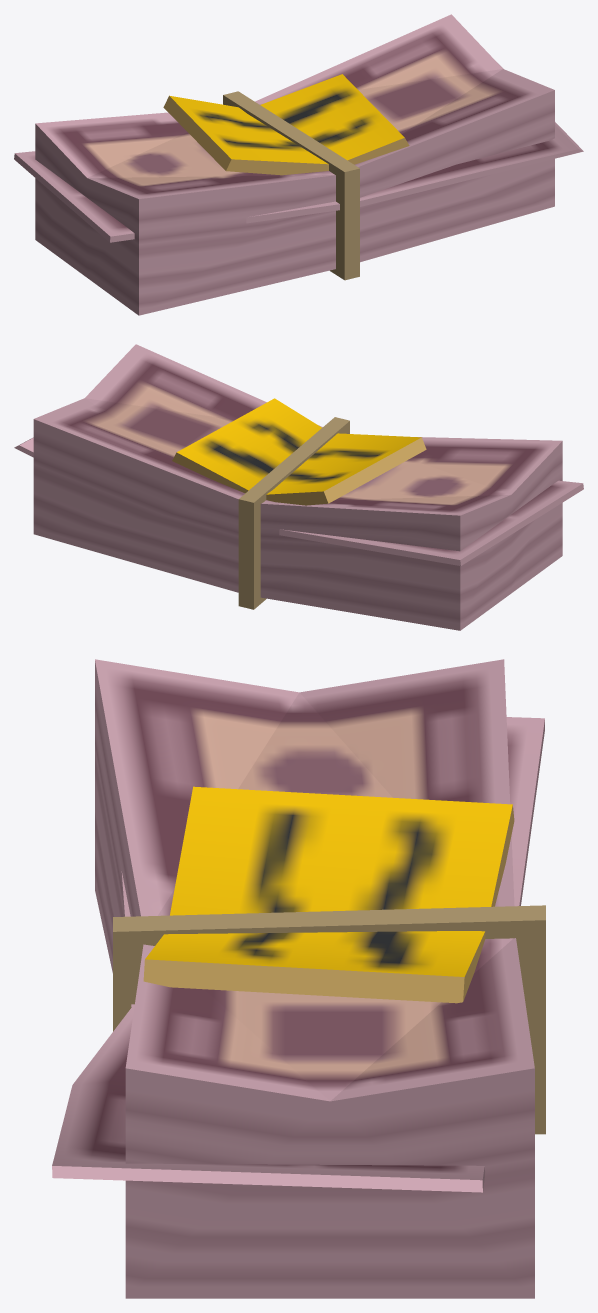
File: SM_Prop_Money_Strapped_02.fbx
3 renders of one model, top to bottom at view 1: azimuth 30°, elevation 25°; view 2: azimuth 150°, elevation 25°; view 3: azimuth 270°, elevation 25°, orthographic. The views are drawn at different scales.
Parts seen in each view (by area): view 1: SM_Prop_Money_Strapped_02; view 2: SM_Prop_Money_Strapped_02; view 3: SM_Prop_Money_Strapped_02.
Part boxes in pixels (x1,y1,x2,y2): SM_Prop_Money_Strapped_02: [14, 14, 583, 315]; SM_Prop_Money_Strapped_02: [14, 344, 583, 630]; SM_Prop_Money_Strapped_02: [52, 659, 545, 1298].
Bounding box in the file's own units: 31.11 × 8.38 × 13.96.
